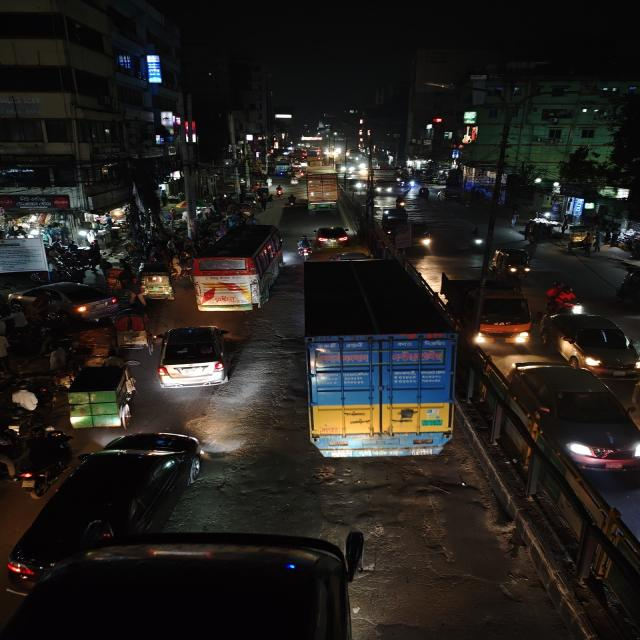bus: (188, 222, 286, 314)
car: (0, 525, 370, 640), (3, 434, 206, 585), (505, 358, 640, 476), (547, 312, 640, 374), (154, 322, 234, 392), (9, 280, 123, 320), (314, 225, 353, 249)
cng: (63, 363, 140, 431), (489, 246, 537, 282), (136, 262, 176, 300)
motorcycle: (1, 424, 70, 494), (7, 384, 43, 435), (546, 281, 588, 315), (464, 226, 486, 252), (416, 225, 437, 252), (294, 234, 314, 260), (285, 194, 298, 208), (273, 185, 284, 197)
pickup_van: (441, 274, 534, 347)
rickshaw: (70, 325, 116, 365), (114, 312, 153, 352)
truck: (302, 260, 457, 462), (302, 173, 343, 215)
